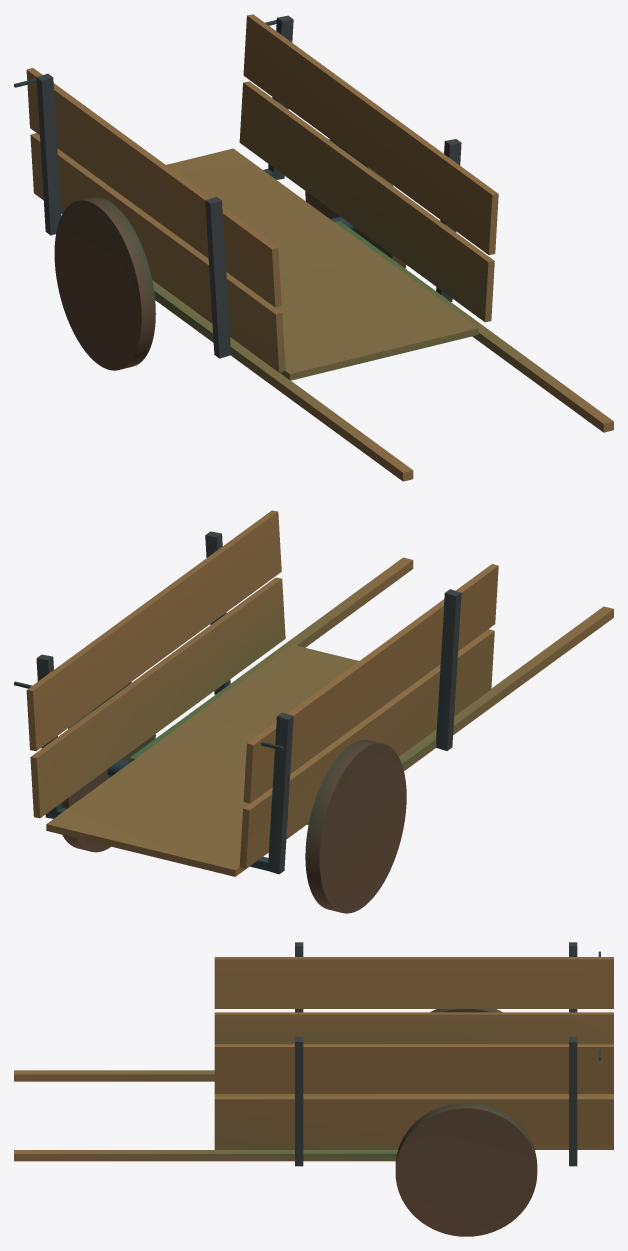
3 renders of one model, top to bottom at view 1: azimuth 30°, elevation 25°; view 2: azimuth 150°, elevation 25°; view 3: azimuth 270°, elevation 25°, orthographic. The views are drawn at different scales.
Parts seen in each view (by area): view 1: deck, lower_board.001, upper_board.001, upper_board, solid_wheel, lower_board, shaft, shaft.003, strap, strap.001, solid_wheel.001; view 2: deck, lower_board.001, upper_board.001, upper_board, solid_wheel, lower_board, shaft, shaft.003, strap, strap.001, solid_wheel.001; view 3: upper_board, upper_board.001, lower_board.001, solid_wheel.001, lower_board, shaft.003, shaft, deck, strap.002, strap.003.
Part boxes in pixels (bbox=[...]): deck: bbox=[166, 148, 478, 380]; lower_board.001: bbox=[239, 81, 494, 322]; upper_board.001: bbox=[243, 14, 498, 254]; upper_board: bbox=[26, 68, 281, 307]; solid_wheel: bbox=[54, 197, 155, 370]; lower_board: bbox=[30, 133, 285, 372]; shaft: bbox=[152, 280, 413, 481]; shaft.003: bbox=[335, 221, 613, 432]; strap: bbox=[205, 196, 230, 358]; strap.001: bbox=[36, 73, 61, 235]; solid_wheel.001: bbox=[305, 139, 405, 268]; deck: bbox=[46, 644, 358, 876]; lower_board.001: bbox=[30, 577, 285, 818]; upper_board.001: bbox=[26, 510, 281, 751]; upper_board: bbox=[243, 564, 498, 803]; solid_wheel: bbox=[305, 740, 406, 913]; lower_board: bbox=[239, 629, 494, 868]; shaft: bbox=[399, 606, 613, 770]; shaft.003: bbox=[129, 557, 413, 761]; strap: bbox=[436, 589, 461, 750]; strap.001: bbox=[267, 712, 293, 874]; solid_wheel.001: bbox=[61, 682, 155, 852]; upper_board: bbox=[214, 957, 613, 1008]; upper_board.001: bbox=[214, 1044, 613, 1093]; lower_board.001: bbox=[214, 1096, 613, 1146]; solid_wheel.001: bbox=[395, 1102, 537, 1236]; lower_board: bbox=[214, 1012, 613, 1044]; shaft.003: bbox=[14, 1150, 397, 1161]; shaft: bbox=[14, 1070, 214, 1081]; deck: bbox=[214, 1094, 613, 1149]; strap.002: bbox=[569, 1037, 577, 1166]; strap.003: bbox=[295, 1037, 303, 1166].
Size of the model in its own units: 0.4155 by 0.3506 by 0.99.
